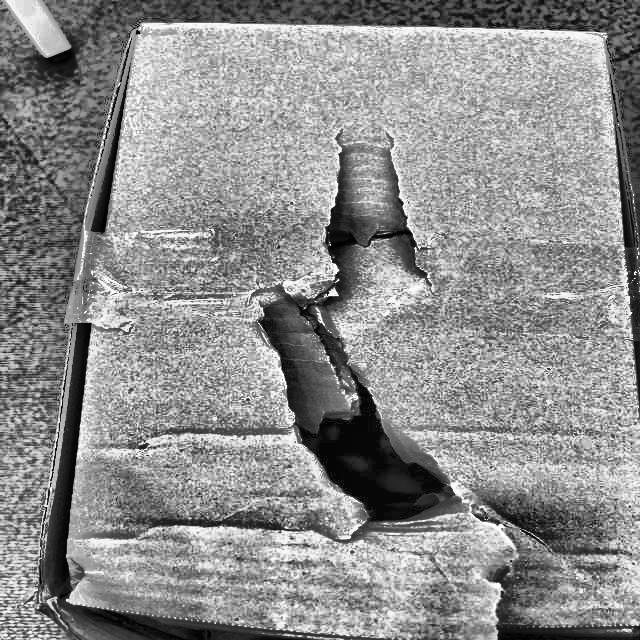box: (31, 18, 639, 639)
hole: (274, 372, 462, 521), (304, 136, 452, 304), (54, 597, 224, 640)
